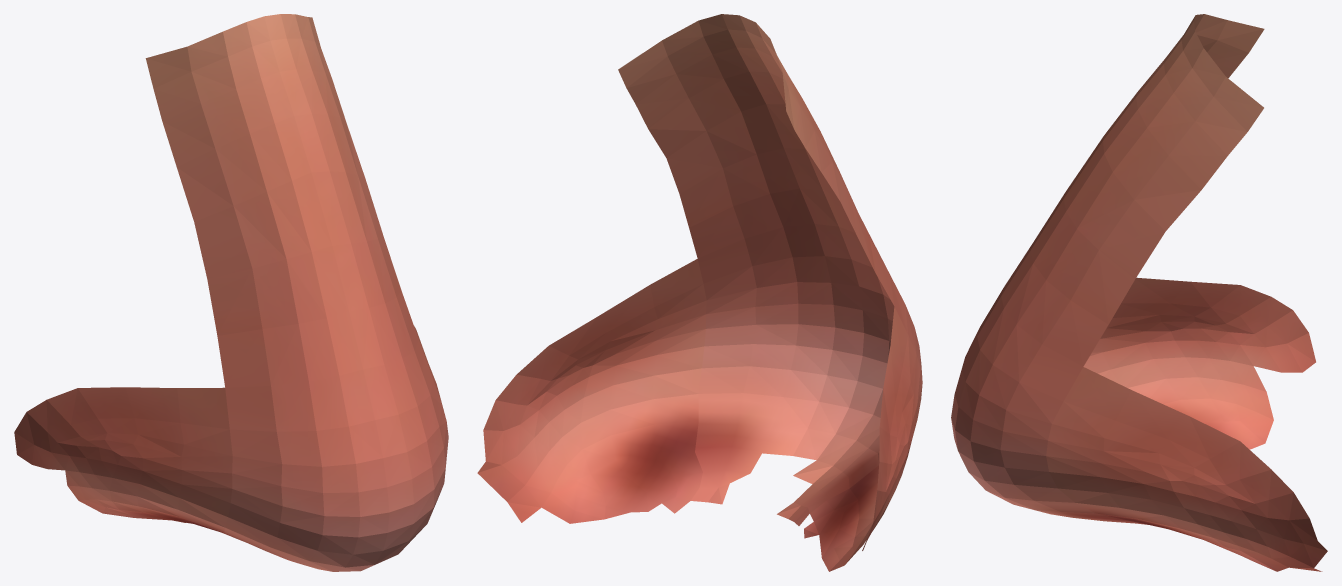
File: euro-nose-bridge-deep.obj
3 views of the same model, side by side, from view 1: azimuth 30°, elevation 25°; view 2: azimuth 150°, elevation 25°; view 3: azimuth 270°, elevation 25° (orthographic). The views are drawn at different scales.
Visible parts, largest first — view 1: euro-nose-bridge-deep.001; view 2: euro-nose-bridge-deep.001; view 3: euro-nose-bridge-deep.001.
Boxes of the visible parts, left/top/right/bottom form: euro-nose-bridge-deep.001: left=14, top=14, right=448, bottom=571; euro-nose-bridge-deep.001: left=477, top=14, right=922, bottom=571; euro-nose-bridge-deep.001: left=951, top=14, right=1327, bottom=571.
Size of the model in its own units: 0.3723 by 0.4683 by 0.3226.
Materials: 1 (1 with a texture image).
